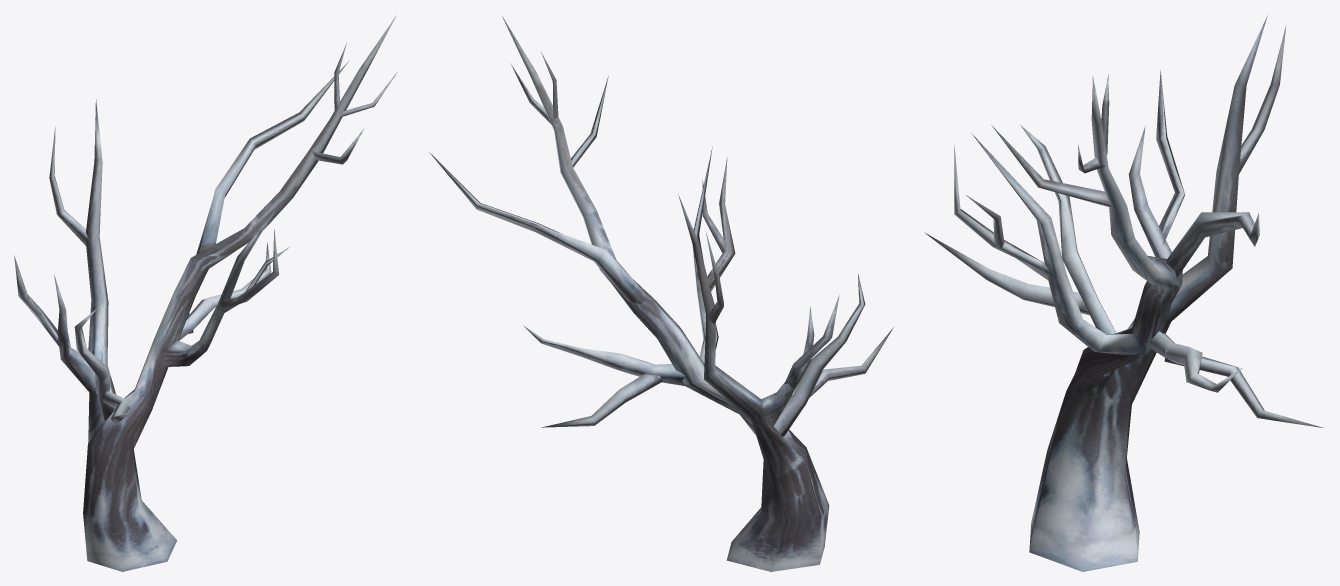
Rendered from SM_Dead_tree_02.fbx.
3 renders of one model, left to right at view 1: azimuth 30°, elevation 25°; view 2: azimuth 150°, elevation 25°; view 3: azimuth 270°, elevation 25°, orthographic. The views are drawn at different scales.
Visible parts, largest first — view 1: SM_Dead_tree_02; view 2: SM_Dead_tree_02; view 3: SM_Dead_tree_02.
Boxes of the visible parts, x1,y1,x2,y2 form: SM_Dead_tree_02: (14,15,397,571); SM_Dead_tree_02: (429,16,893,571); SM_Dead_tree_02: (924,15,1324,571).
Bounding box in the file's own units: 5.3 × 6.4 × 3.61.
